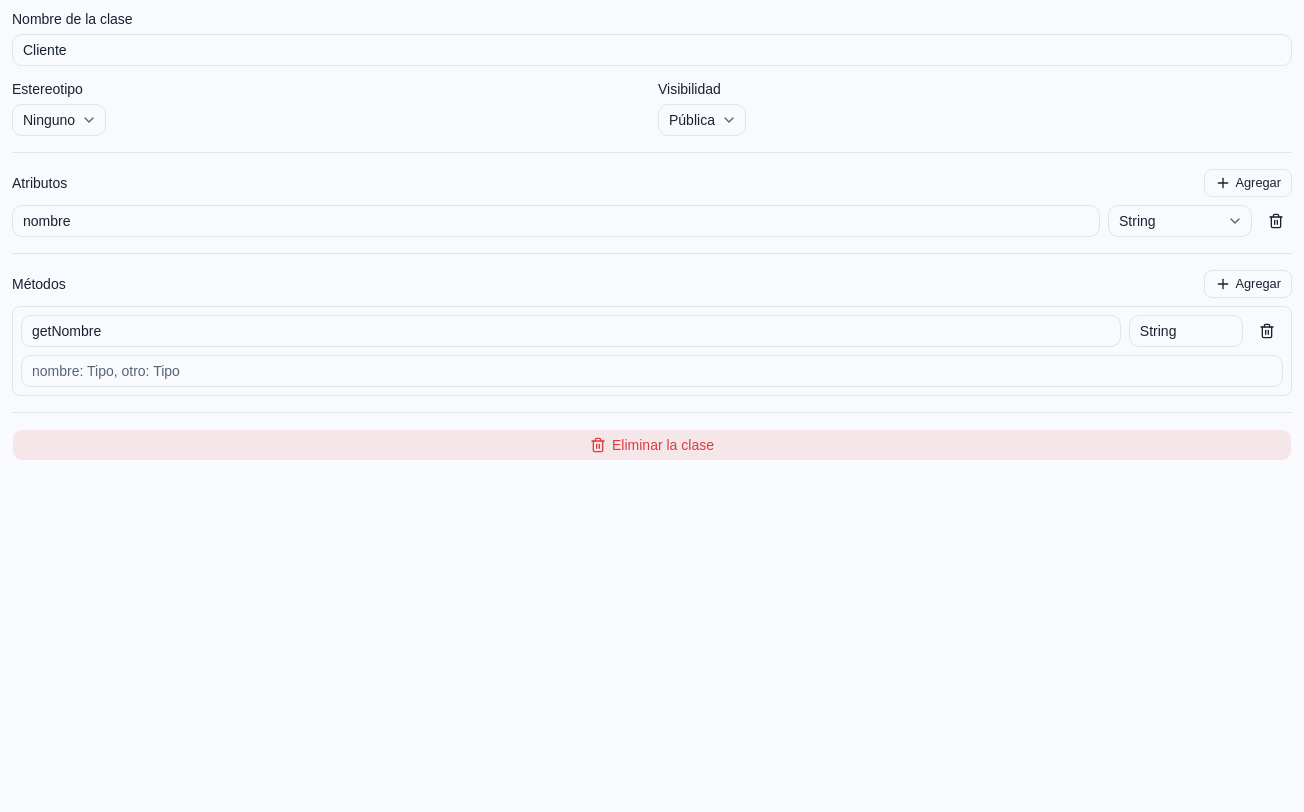
Scenario: CU-08 Gestionar clases, atributos y métodos › la lista ofrece todos los tipos que acepta el servidor
Click the dropdown named "Tipo del atributo nombre". click: [1180, 221]
box: [1108,205,1252,237]
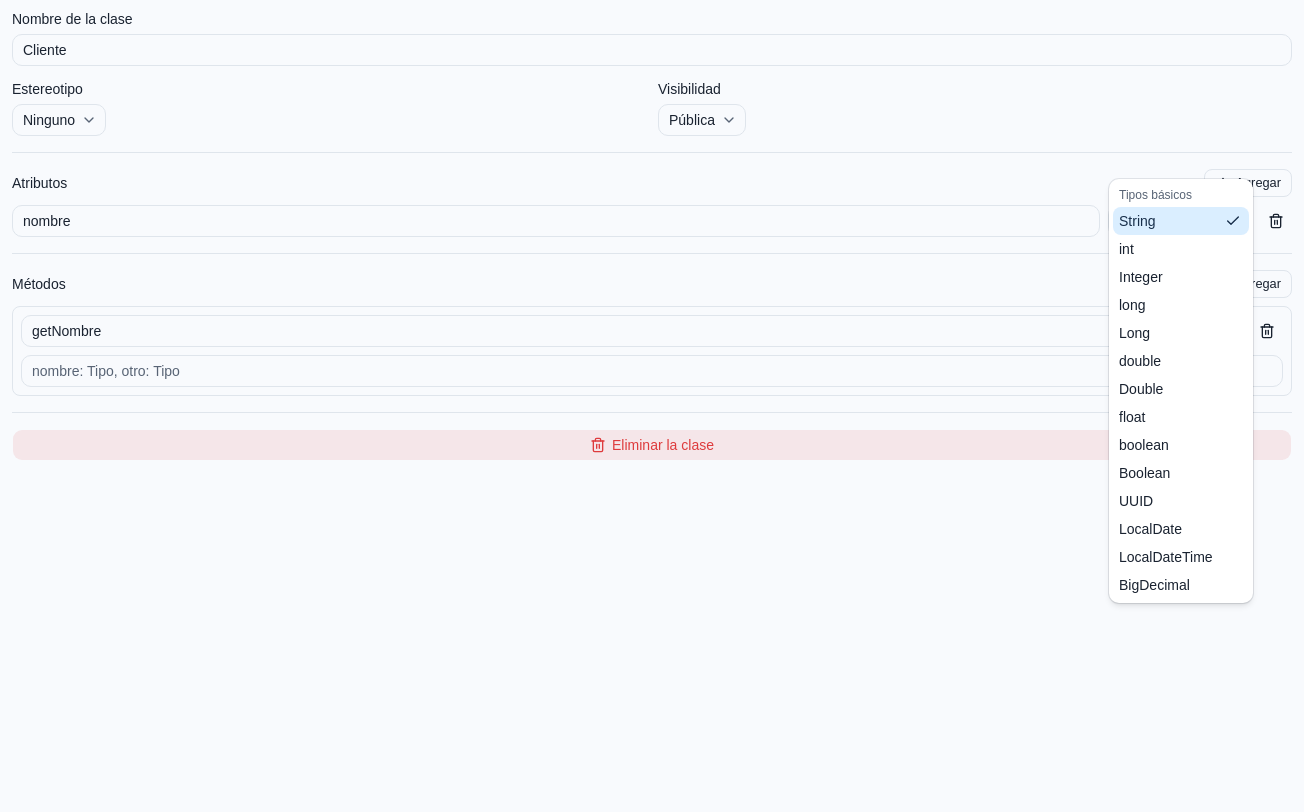
Result: the option "String" is shown at [1113,207,1249,235]
Result: the option "int" is shown at [1119,241,1134,257]
Result: the option "Integer" is shown at [1119,269,1163,285]
